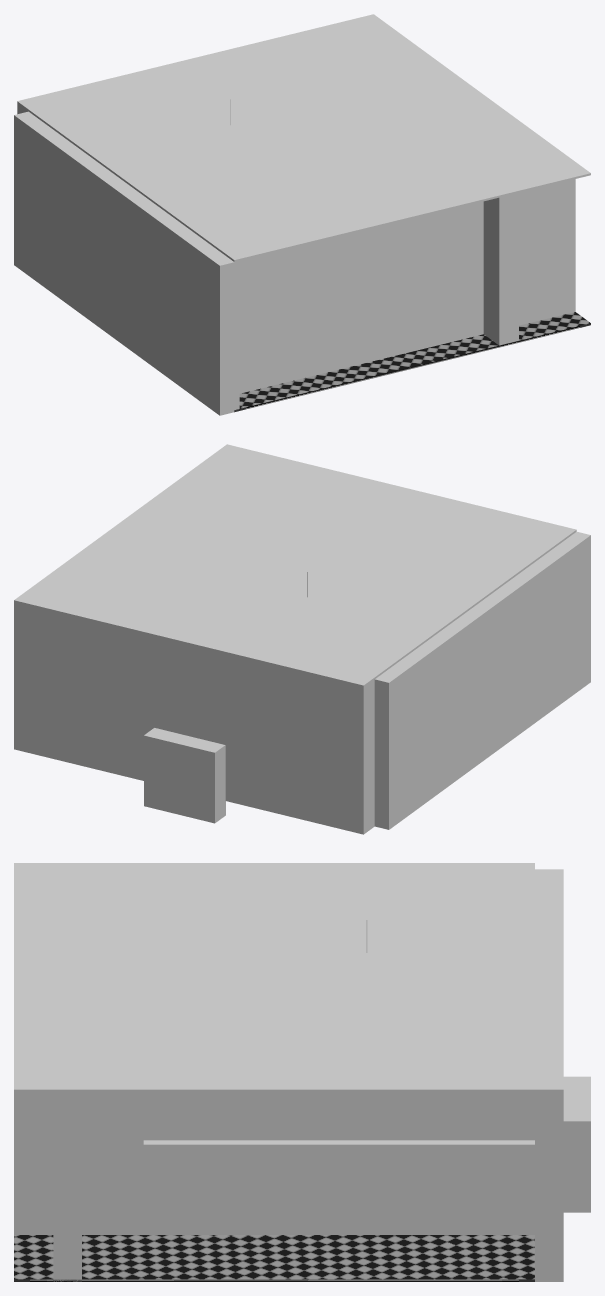
File: main_hall.glb
3 renders of one model, top to bottom at view 1: azimuth 30°, elevation 25°; view 2: azimuth 150°, elevation 25°; view 3: azimuth 270°, elevation 25°, orthographic. The views are drawn at different scales.
Visible parts, largest first — view 1: Cube.009, Cube.007, Cube.002, floor, Cube.008, Cube.006; view 2: Cube.009, Cube.006, Cube.002, Cube.051; view 3: Cube.009, Cube.008, floor, Cube.006, Cube.007, Cube.051, Cube.002, Cube.004.
Part boxes in pixels (bbox=[...]): Cube.009: bbox=[28, 22, 590, 261]; Cube.007: bbox=[239, 179, 575, 393]; Cube.002: bbox=[14, 111, 239, 415]; floor: bbox=[234, 312, 590, 412]; Cube.008: bbox=[483, 193, 518, 345]; Cube.006: bbox=[17, 14, 384, 114]; Cube.009: bbox=[25, 444, 576, 678]; Cube.006: bbox=[14, 592, 374, 834]; Cube.002: bbox=[374, 531, 590, 829]; Cube.051: bbox=[144, 728, 225, 823]; Cube.009: bbox=[14, 869, 534, 1092]; Cube.008: bbox=[14, 1092, 534, 1234]; floor: bbox=[14, 1235, 534, 1281]; Cube.006: bbox=[535, 869, 563, 1281]; Cube.007: bbox=[53, 1092, 81, 1281]; Cube.051: bbox=[563, 1076, 590, 1212]; Cube.002: bbox=[14, 863, 534, 869]; Cube.004: bbox=[143, 1140, 534, 1147].
Bounding box in the file's own units: 37.64 × 18.73 × 40.06.
Materials: 1 (1 with a texture image).
